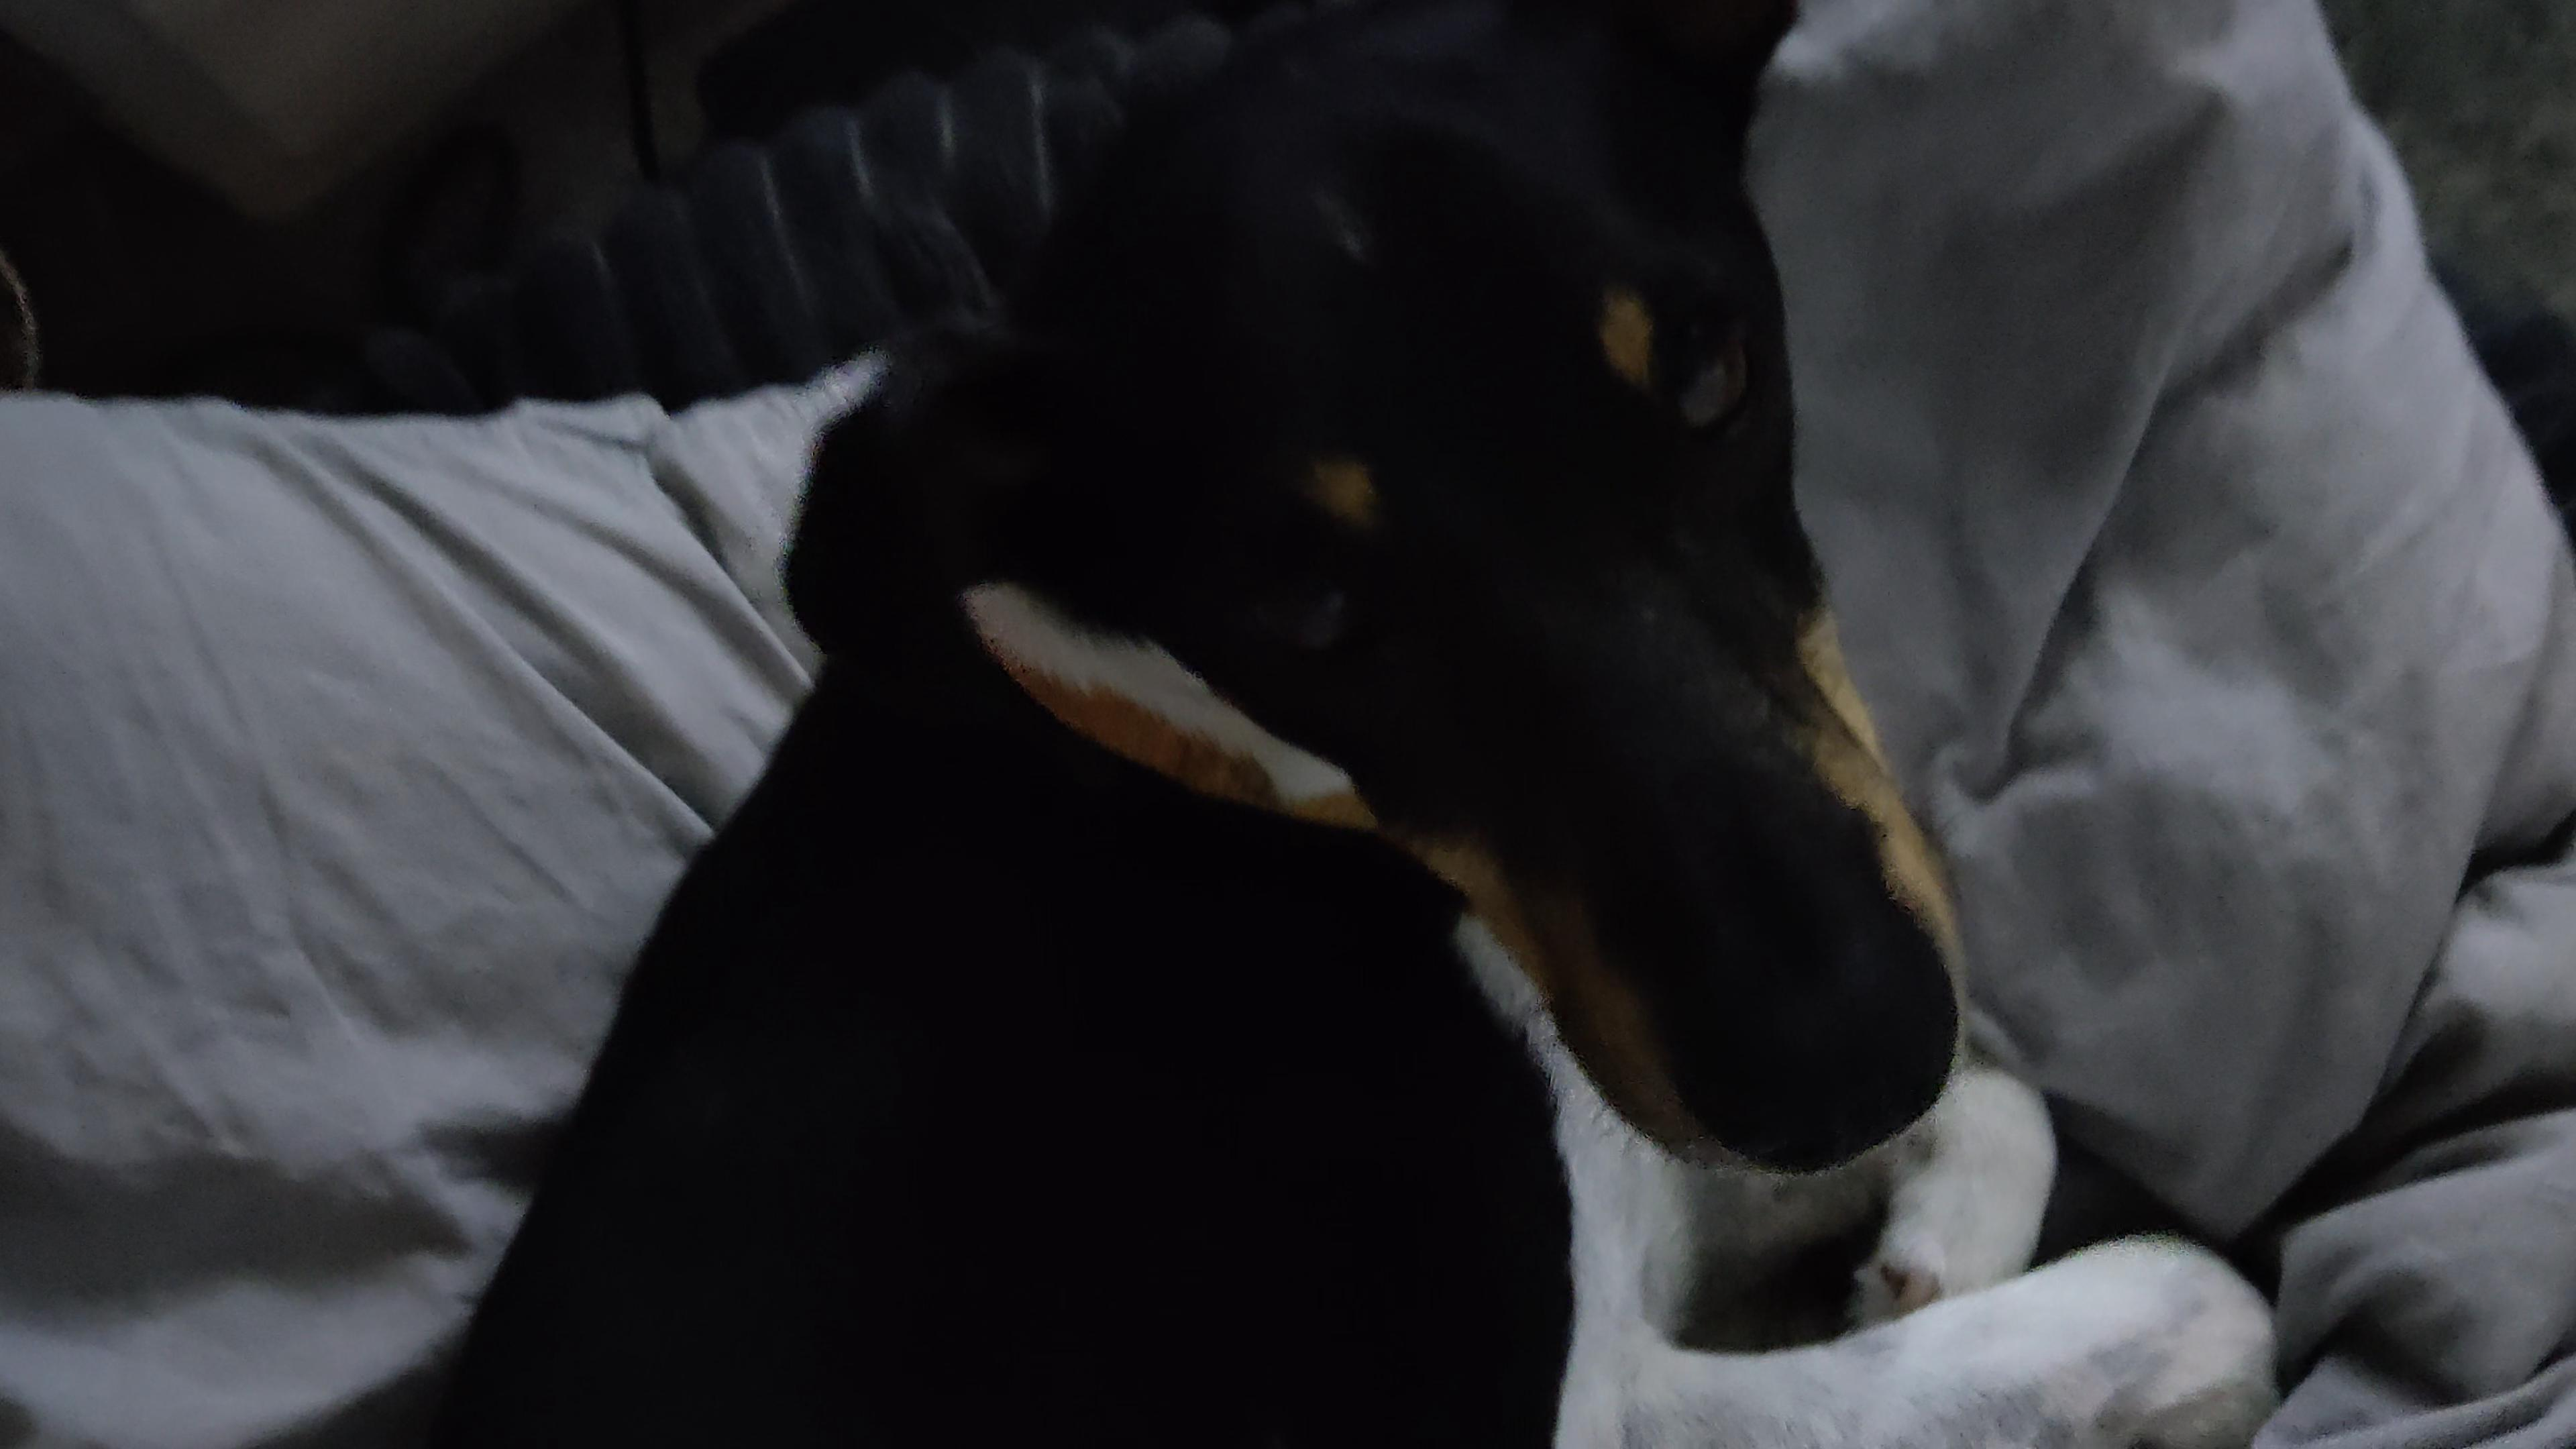Dog: (409, 0, 2325, 1449)
